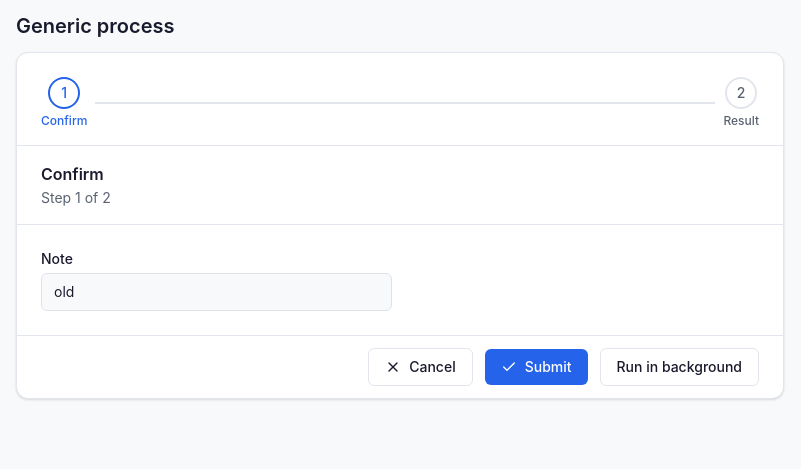
ProcessRun durable jobs › shows the server error on HTTP 400 and keeps inputs for retry
The image size is (801, 469).
Click the button "Run in background" at [679, 367], box [600,348,759,386]
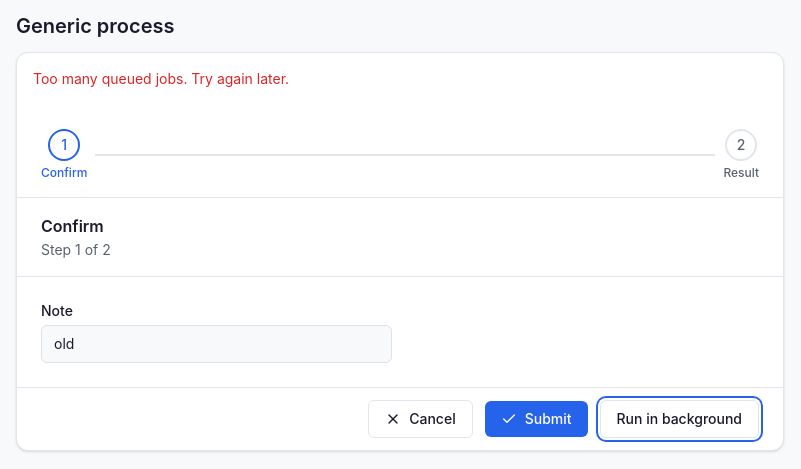
Expected: the field labelled "Note" holds "old", [41,325,392,363]
Now the message reads "Too many queued jobs. Try again later.", box [33,70,289,87]
